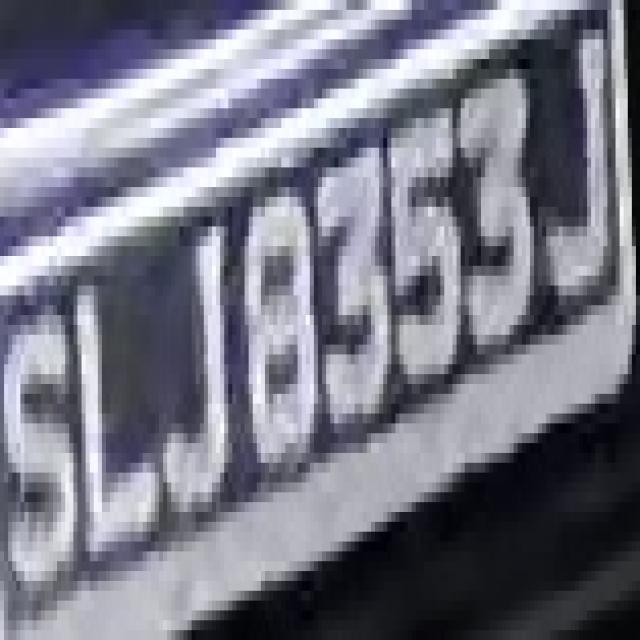3: (298, 128, 396, 453), (453, 49, 542, 384)
5: (383, 89, 473, 414)
8: (228, 168, 330, 492)
J: (147, 178, 236, 552), (534, 19, 616, 344)
L: (65, 246, 159, 591)
S: (0, 276, 82, 610)
